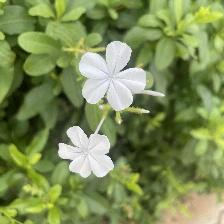chitrak: (78, 34, 147, 119), (61, 126, 117, 180)
